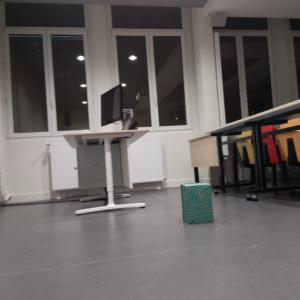small: (179, 181, 215, 227)
